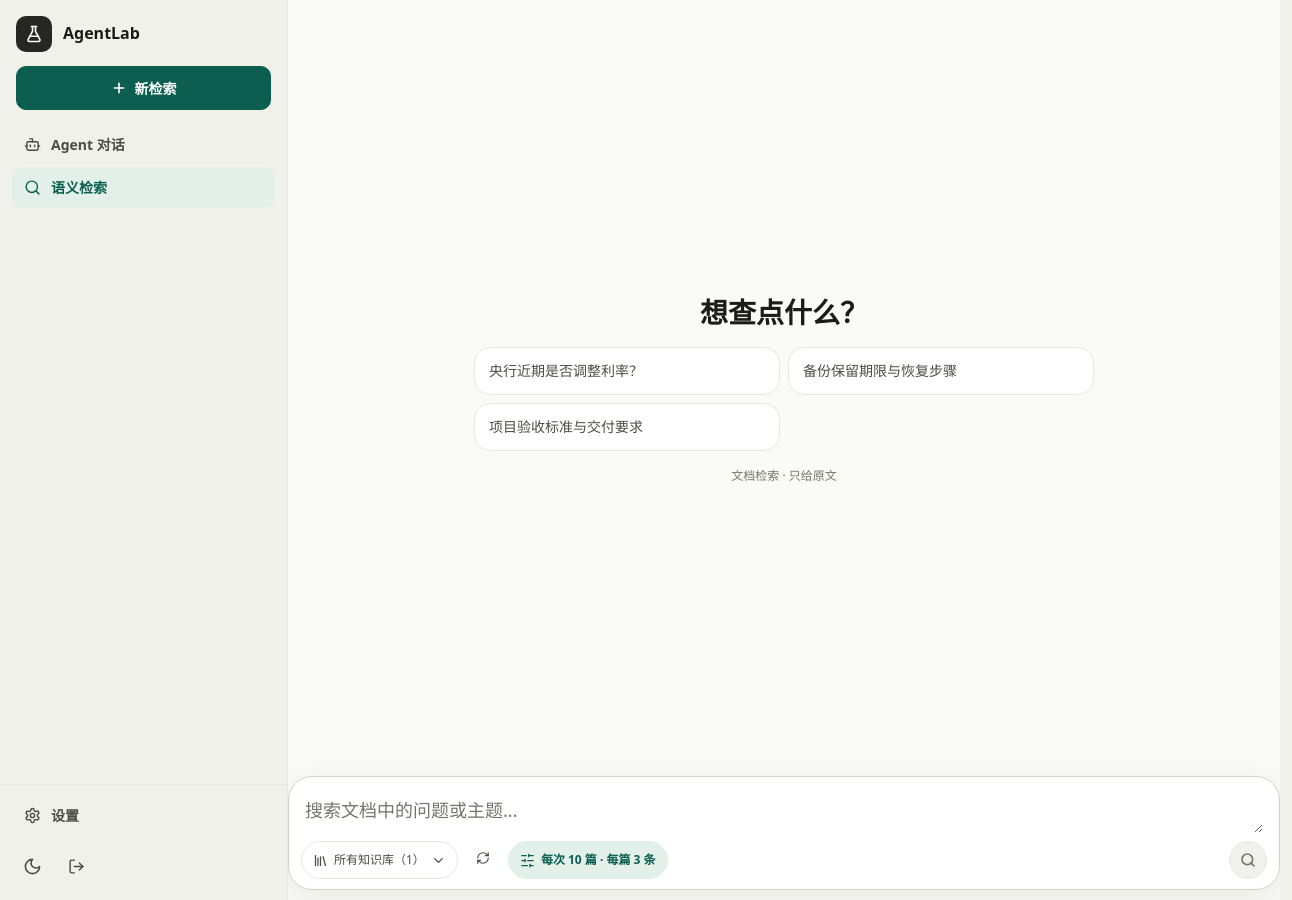
it: SearchPage search stream › accumulates rounds and keeps the newest record closest to the input
This screenshot has width=1292, height=900.
Type "利率" into the text box with placeholder "搜索文档中的问题或主题..." at (784, 811), box [305,789,1263,833]
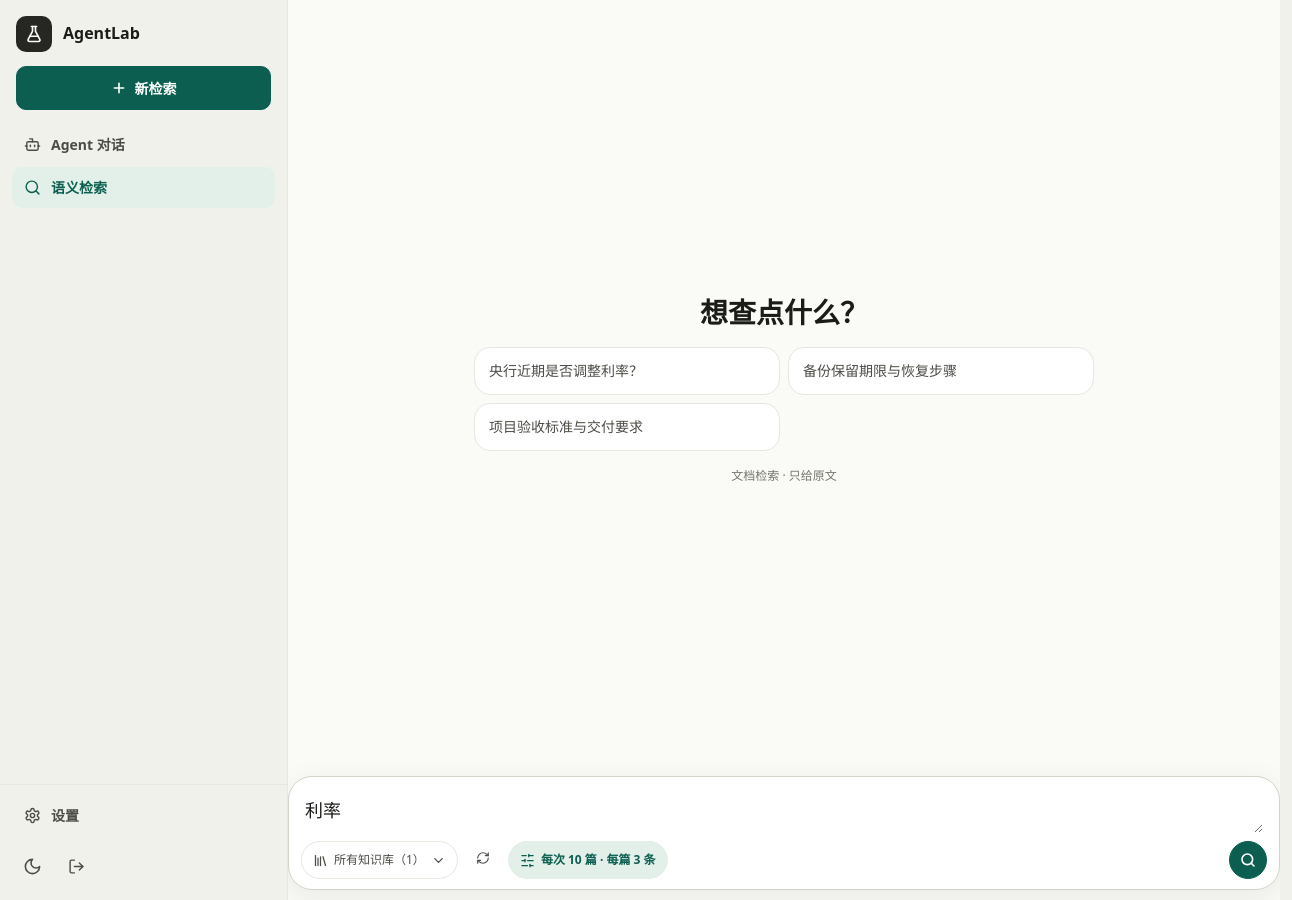
Submit the form, box [288,776,1280,890]
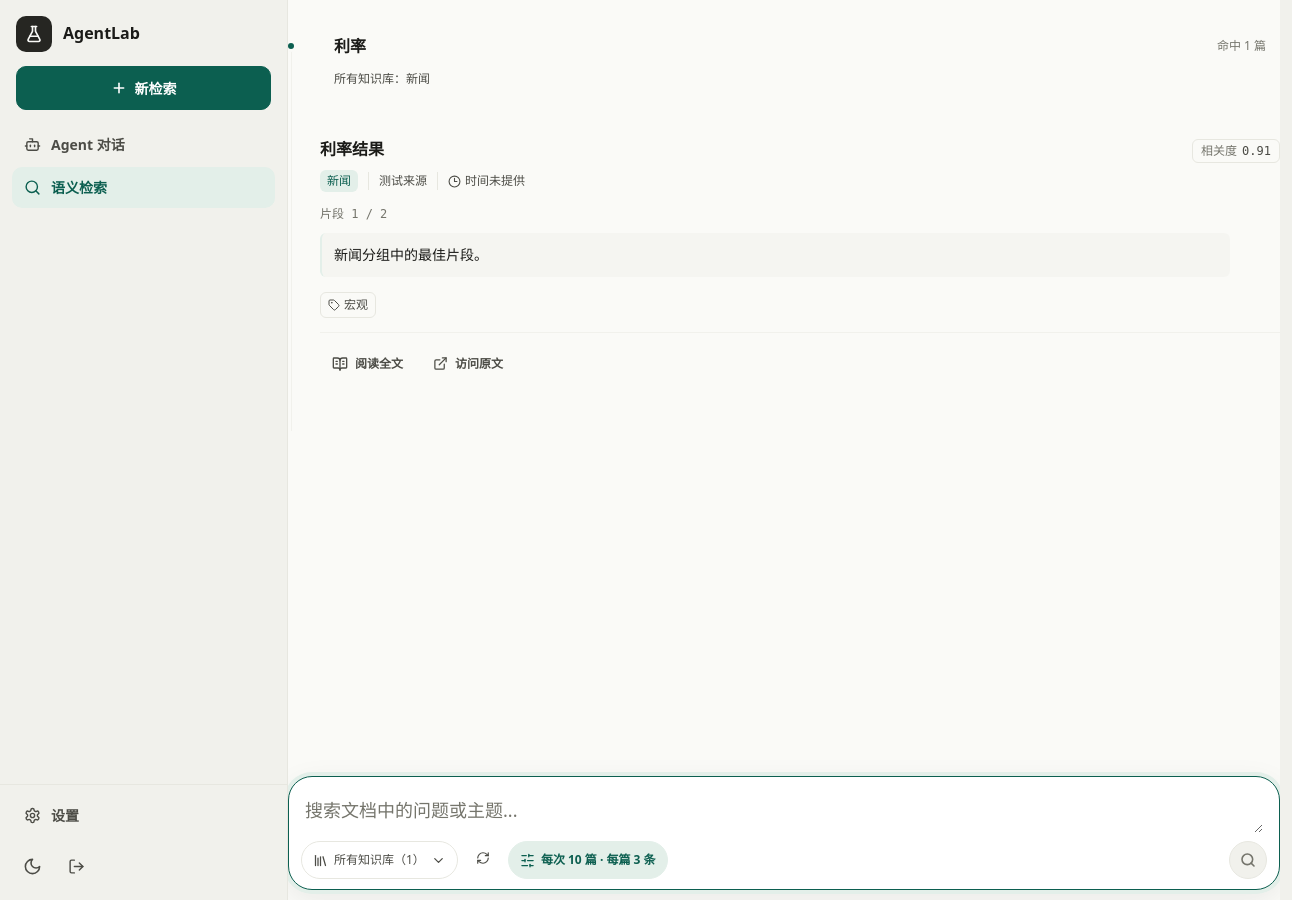
#  第二轮（换词）
Type "楼市" into the text box with placeholder "搜索文档中的问题或主题..." at (784, 811), box [305,789,1263,833]
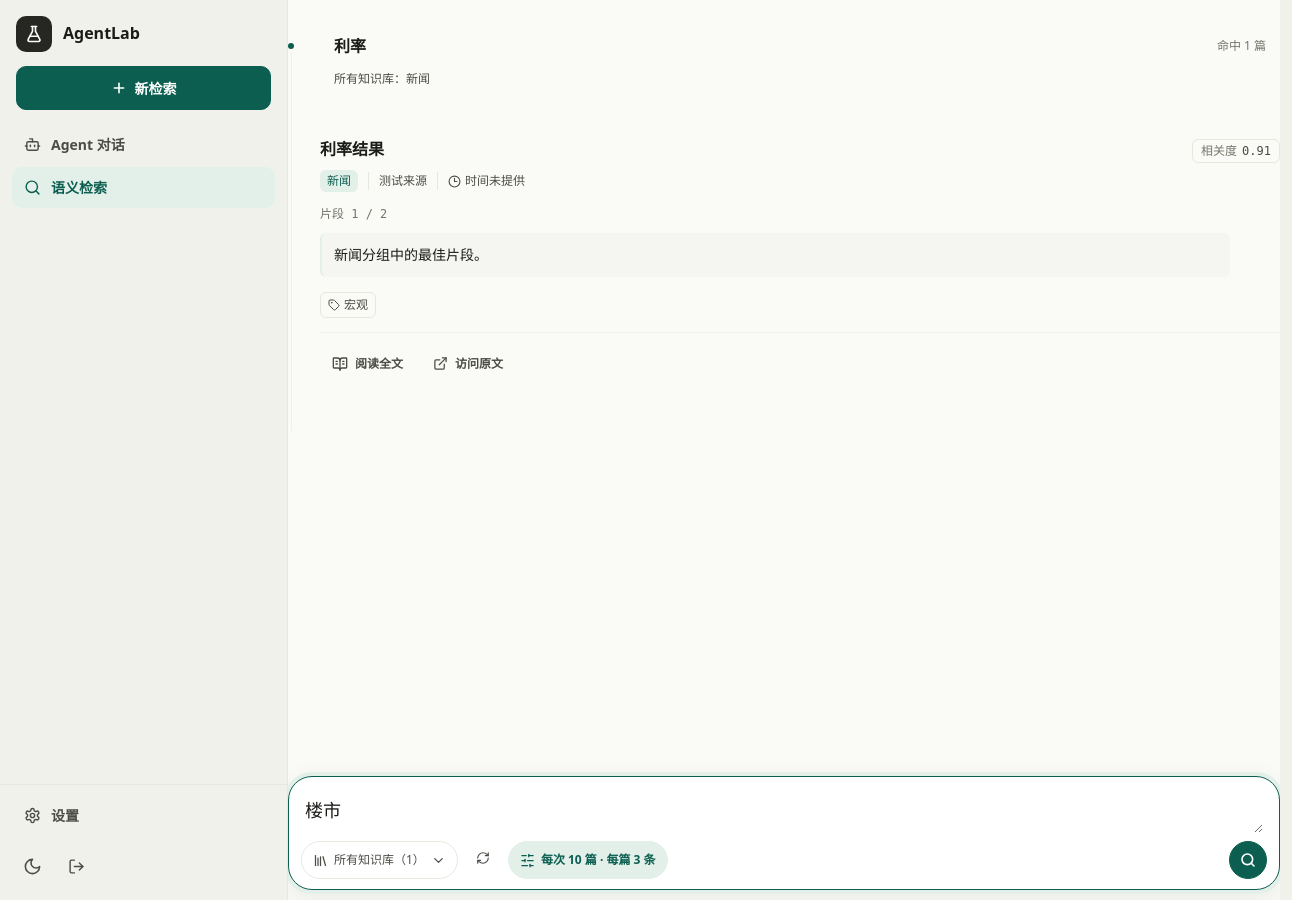
Submit the form, box [288,776,1280,890]
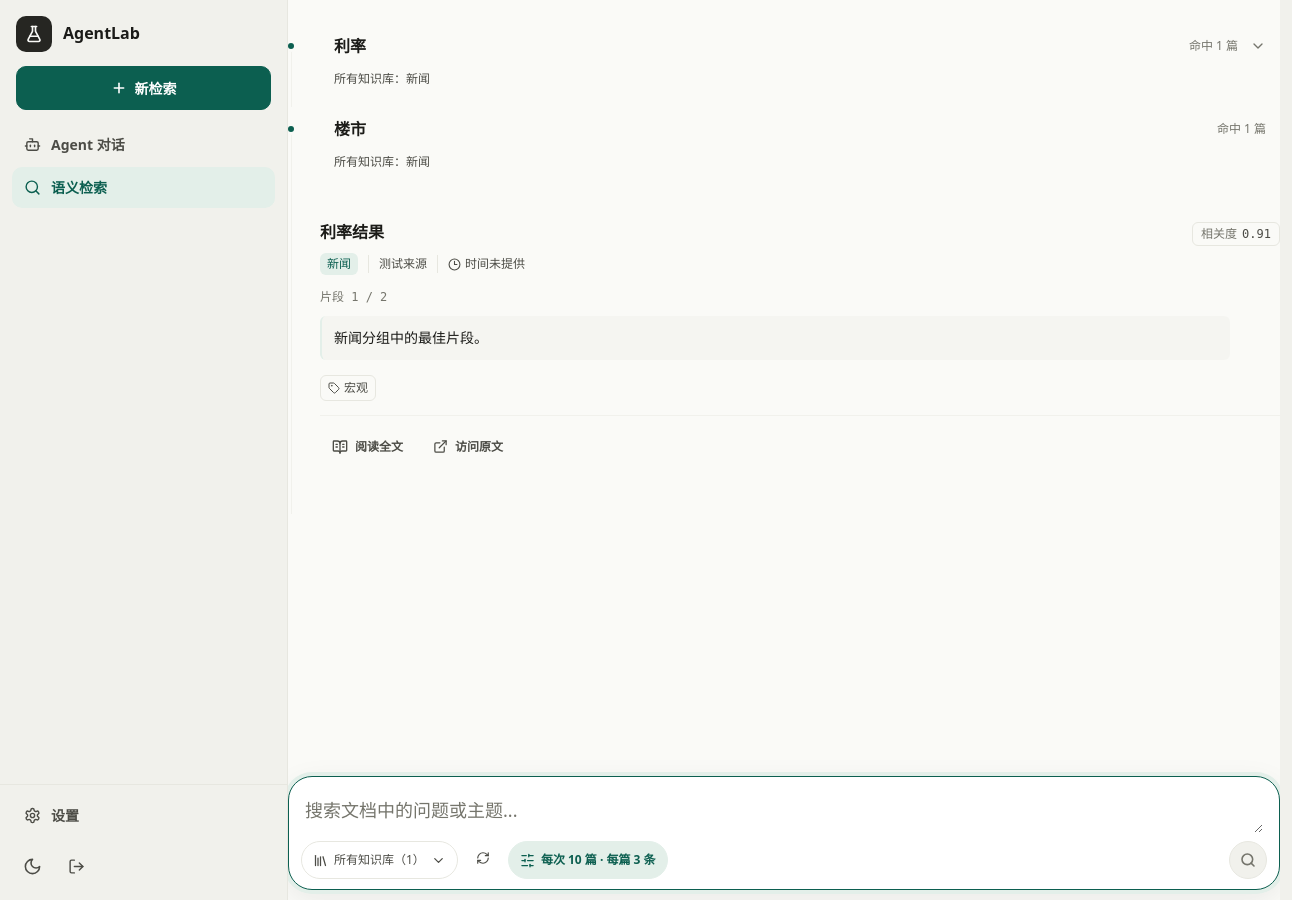
Expected: the number of elements with class "record" is 2, [288,24,1280,95]; [288,107,1280,514]
Expected: the elements with class "record-query" read "利率", "楼市", in this order, [334,34,366,58]; [334,117,366,141]
